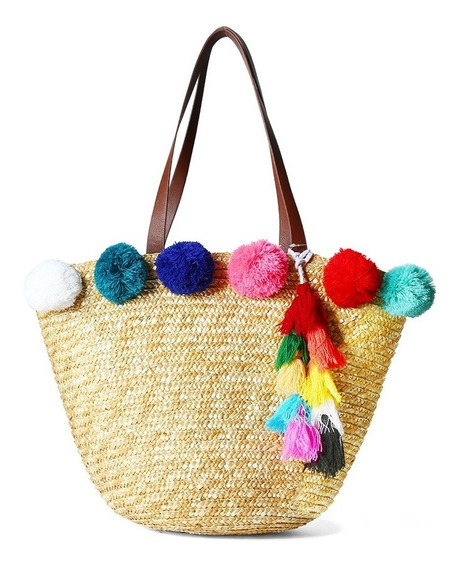cartera: (24, 25, 433, 534)
